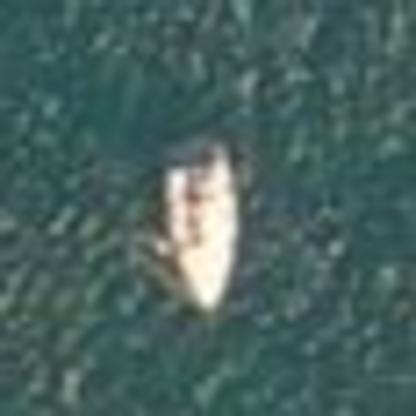ship: (141, 128, 269, 325)
